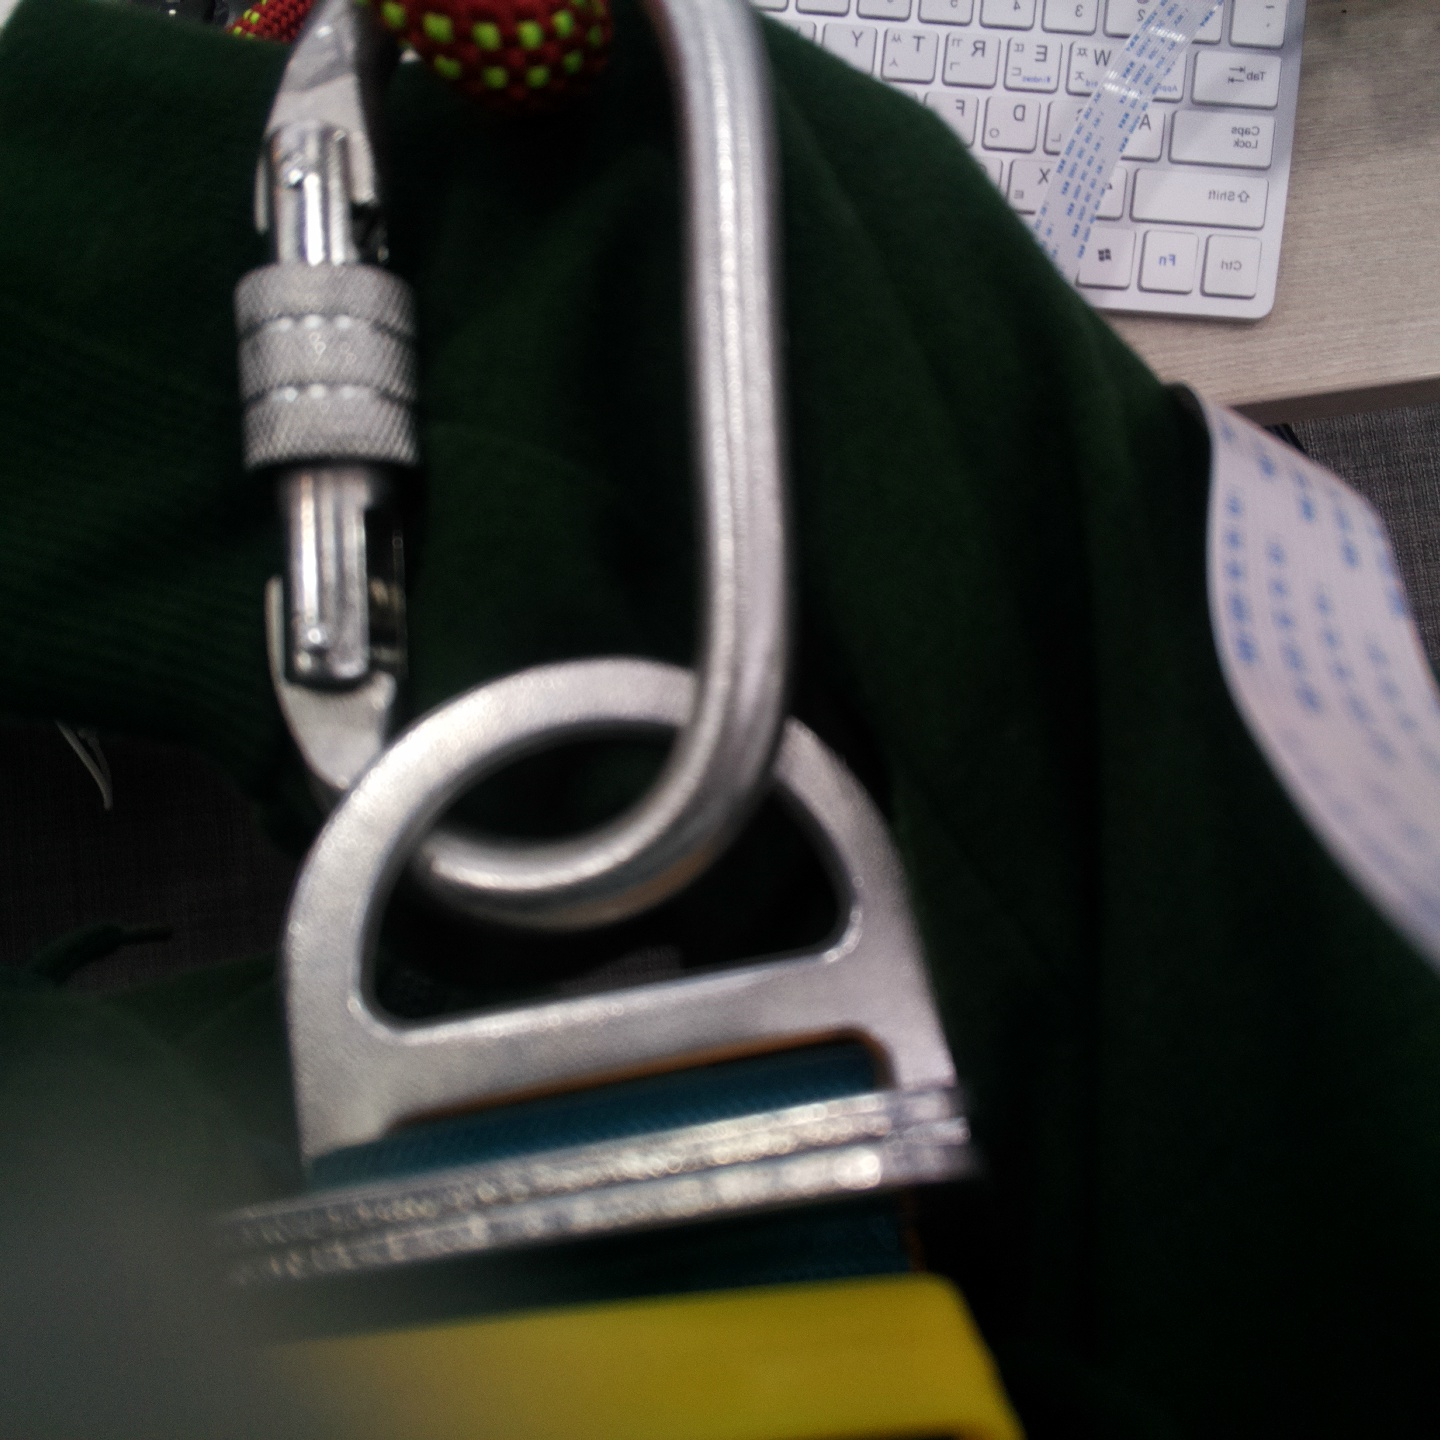SUCCESS: (215, 189, 814, 630)
